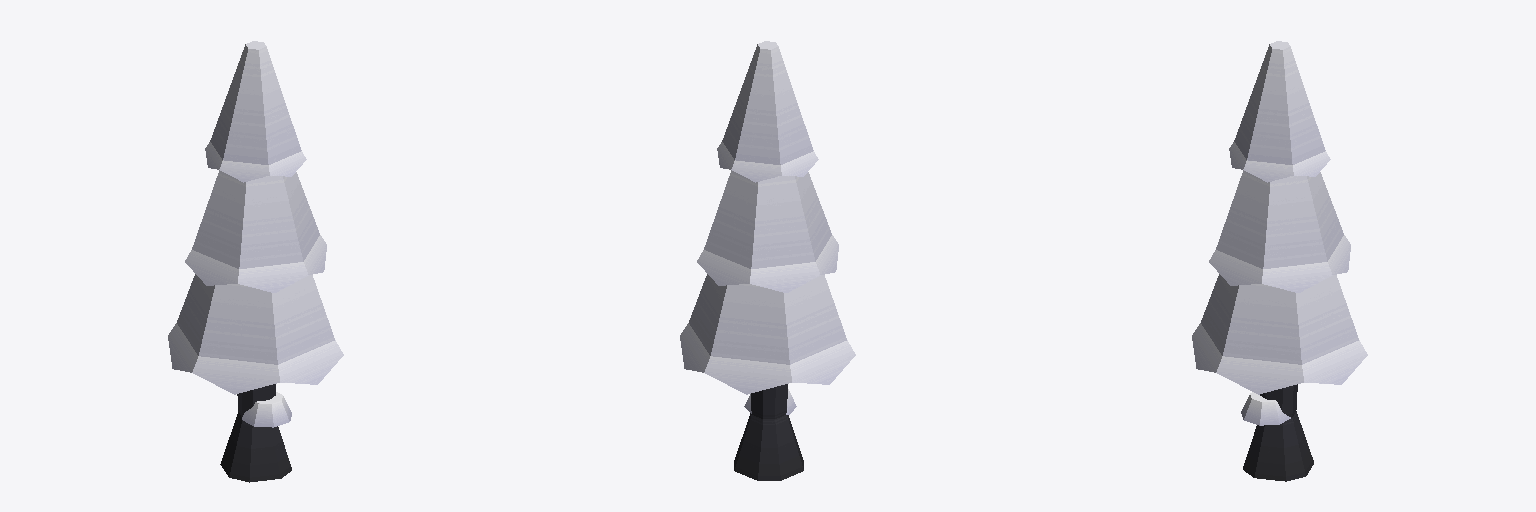
3 views of the same model, side by side, from view 1: azimuth 30°, elevation 25°; view 2: azimuth 150°, elevation 25°; view 3: azimuth 270°, elevation 25° (orthographic).
Visible parts, largest first — view 1: tree.071; view 2: tree.071; view 3: tree.071.
Boxes of the visible parts, x1=… form: tree.071: x1=168, y1=41, x2=343, y2=482; tree.071: x1=680, y1=41, x2=855, y2=480; tree.071: x1=1192, y1=41, x2=1367, y2=481.
Size of the model in its own units: 1.31 by 3.47 by 1.32.
1 materials, 1 textured.